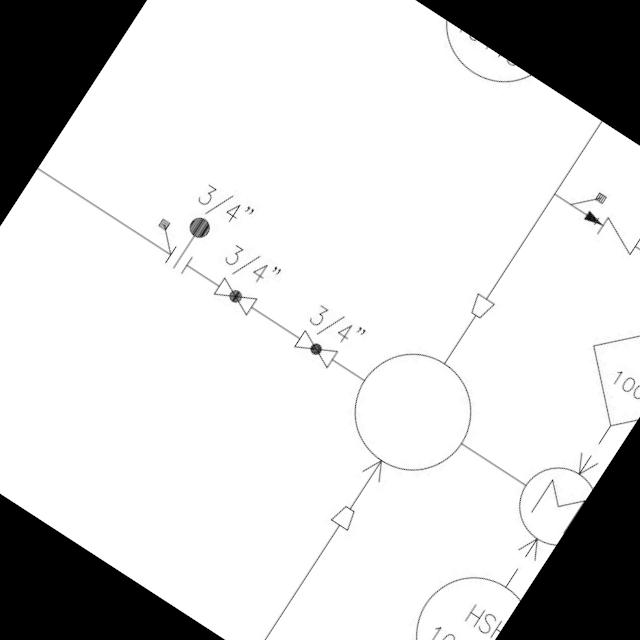BV2: (284, 322, 352, 380), (207, 272, 261, 318)
SP: (324, 495, 365, 537), (462, 288, 500, 326)
